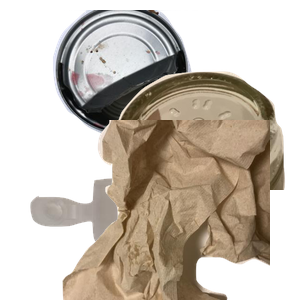glass: (89, 69, 300, 249)
metal: (50, 10, 262, 140)
plastic: (28, 176, 253, 300)
trash: (60, 120, 300, 300)
